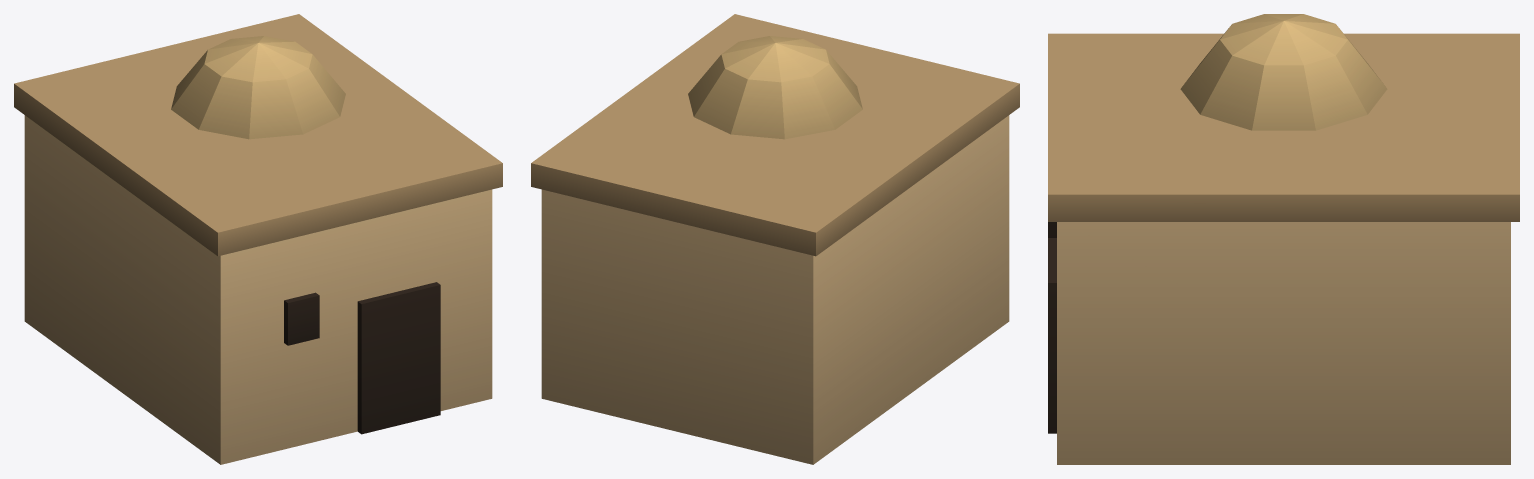
The model's file is house_MA_3a.glb.
The picture shows the model from 3 angles, left to right: view 1: azimuth 30°, elevation 25°; view 2: azimuth 150°, elevation 25°; view 3: azimuth 270°, elevation 25°; orthographic projection. The views are drawn at different scales.
Parts seen in each view (by area): view 1: Body; view 2: Body; view 3: Body.
Part boxes in pixels (x1,y1,x2,y2): Body: (14, 14, 502, 464); Body: (531, 14, 1019, 464); Body: (1048, 14, 1519, 464).
Size of the model in its own units: 1.26 by 1.34 by 1.56.
Materials: 1 (1 with a texture image).
